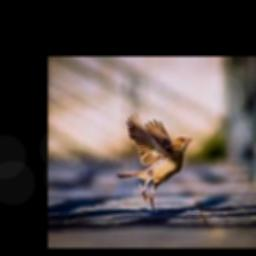Sparrow: (117, 112, 193, 211)
